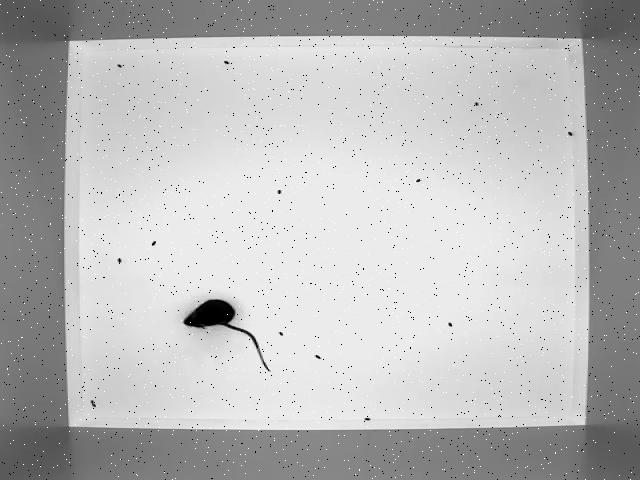Tikus: (185, 298, 273, 374)
